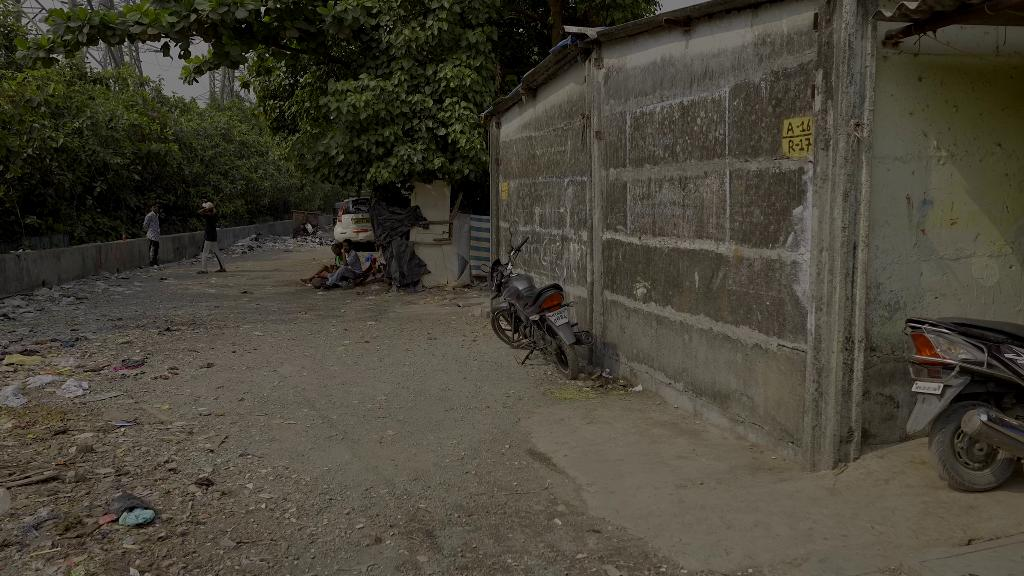garbage: (103, 490, 161, 530), (55, 376, 90, 400), (2, 352, 44, 366)
